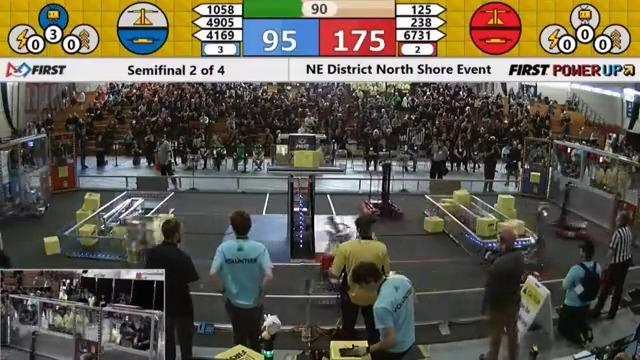robot: (315, 214, 383, 307), (482, 200, 558, 282), (356, 155, 404, 221), (553, 176, 598, 245), (0, 162, 51, 219)
